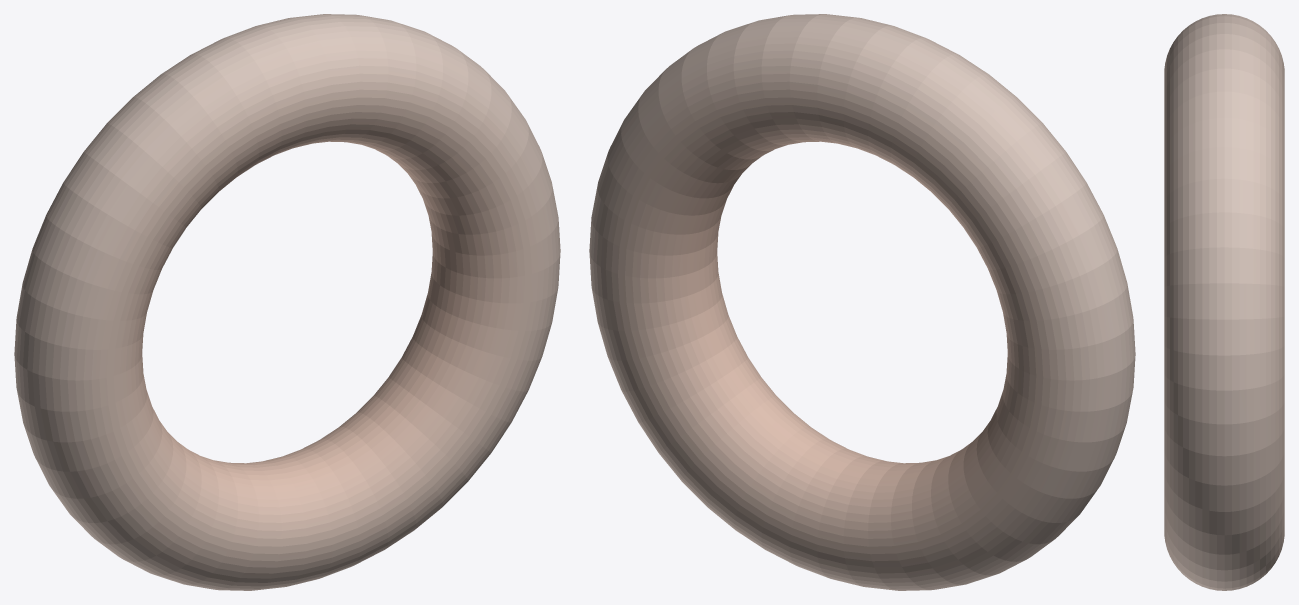
The picture shows the model from 3 angles, left to right: view 1: azimuth 30°, elevation 25°; view 2: azimuth 150°, elevation 25°; view 3: azimuth 270°, elevation 25°; orthographic projection. The views are drawn at different scales.
Parts seen in each view (by area): view 1: world; view 2: world; view 3: world.
Part boxes in pixels (<box>): world: <box>14,14,560,590</box>; world: <box>589,14,1135,590</box>; world: <box>1164,14,1284,590</box>.
Size of the model in its own units: 28.67 by 28.61 by 5.99.
